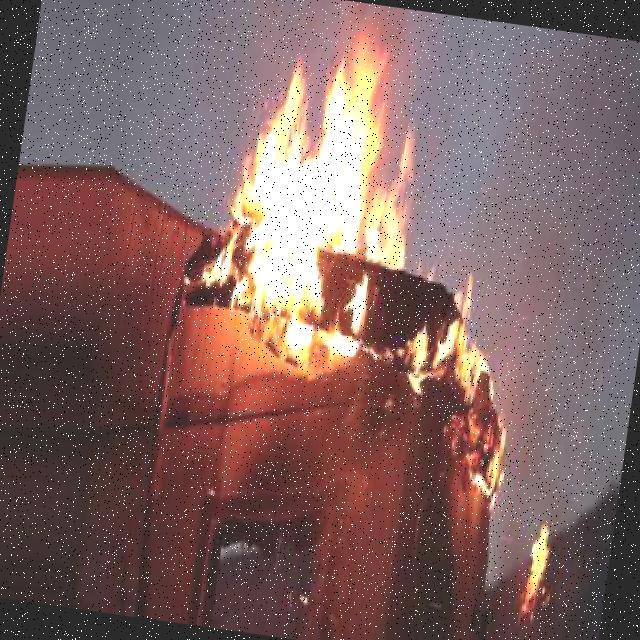Fire: (192, 16, 438, 369), (400, 245, 505, 396), (512, 507, 564, 631), (466, 407, 519, 506)
